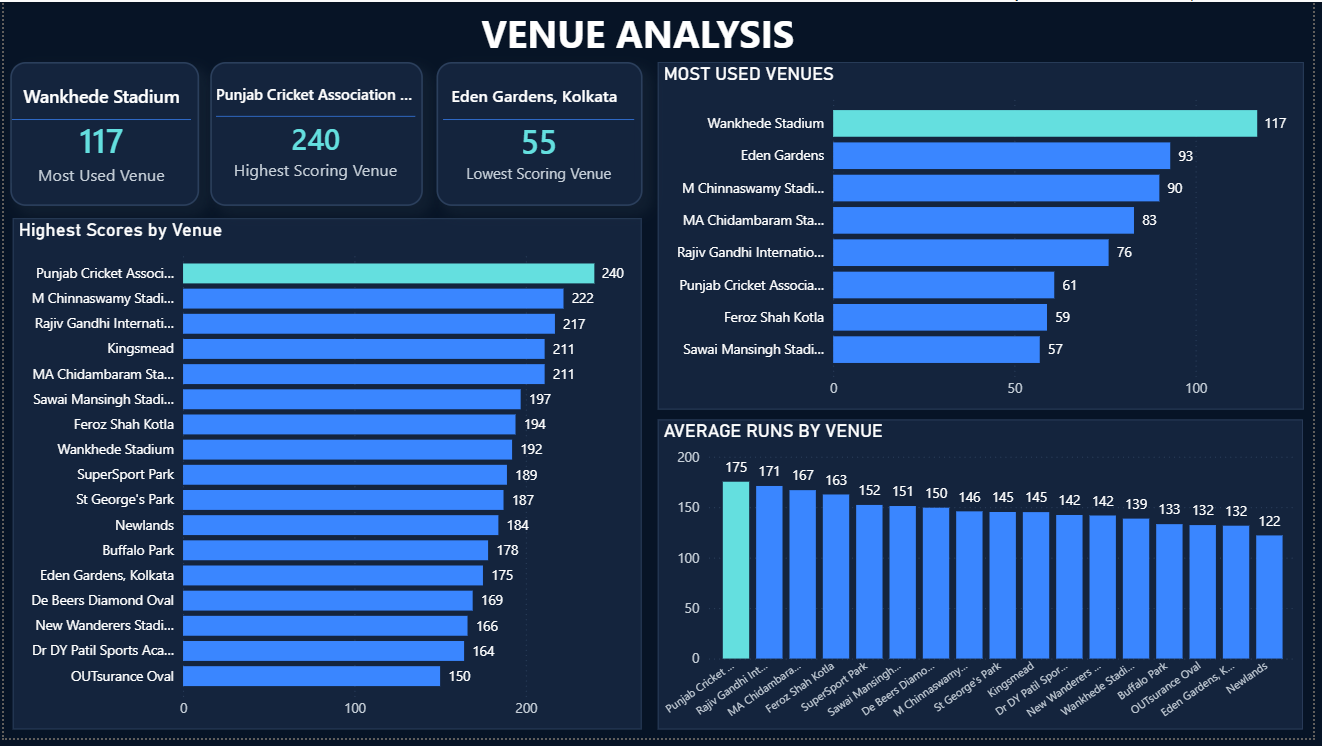

Layout of this report page (visuals, bound fields, positions):
{"tool":"powerbi","page":{"name":"Page 3","canvas":[1280,720],"ordinal":2},"visuals":[{"type":"clusteredBarChart","title":"MOST USED VENUES","fields":{"Category":["ipl_analysis matches.venue"],"Y":["CountNonNull(ipl_analysis matches.id)"]},"box":[639.5,58.7,632.2,339.9],"z":0},{"type":"cardVisual","fields":{"Rows":["ipl_analysis matches.venue"],"Data":["CountNonNull(ipl_analysis matches.venue)"]},"box":[6.1,58.7,184.6,140.6],"z":1000,"group":"g1"},{"type":"clusteredColumnChart","title":"AVERAGE RUNS BY VENUE","fields":{"Category":["ipl_analysis venue_scores.venue"],"Y":["Avg(ipl_analysis venue_scores.innings_score)"]},"box":[639.5,408.4,631,303.3],"z":1000},{"type":"clusteredBarChart","title":"Highest Scores by Venue","fields":{"Category":["ipl_analysis highest_scores_venue.venue"],"Y":["Max(ipl_analysis highest_scores_venue.team_score)"]},"box":[8.6,211.6,615.1,500.1],"z":2000},{"type":"textbox","box":[462.7,0,354.6,80.7],"z":3000},{"type":"cardVisual","fields":{"Data":["Max(ipl_analysis highest_scores_venue.team_score)"],"Rows":["ipl_analysis highest_scores_venue.venue"]},"box":[201.8,58.7,207.9,140.6],"z":3000,"group":"g1"},{"type":"group","id":"g1","title":"Group 1","box":[6.1,58.7,618.8,140.6],"z":4000},{"type":"cardVisual","fields":{"Rows":["ipl_analysis highest_scores_venue.venue"],"Data":["Min(ipl_analysis highest_scores_venue.team_score)"]},"box":[423.1,58.7,201.8,140.6],"z":5000,"group":"g1"}]}

Visuals, with their boxes in screenshot pixels (x1, y1, x2, y2), scaled from the page's 1280x720 canvas onto the 1322x746 screenshot:
"MOST USED VENUES" clusteredBarChart: l=660, t=61, r=1313, b=413
cardVisual - ipl_analysis matches.venue x CountNonNull(ipl_analysis matches.venue): l=6, t=61, r=197, b=206
"AVERAGE RUNS BY VENUE" clusteredColumnChart: l=660, t=423, r=1312, b=737
"Highest Scores by Venue" clusteredBarChart: l=9, t=219, r=644, b=737
textbox: l=478, t=0, r=844, b=84
cardVisual - Max(ipl_analysis highest_scores_venue.team_score) x ipl_analysis highest_scores_venue.venue: l=208, t=61, r=423, b=206
"Group 1" group: l=6, t=61, r=645, b=206
cardVisual - ipl_analysis highest_scores_venue.venue x Min(ipl_analysis highest_scores_venue.team_score): l=437, t=61, r=645, b=206
